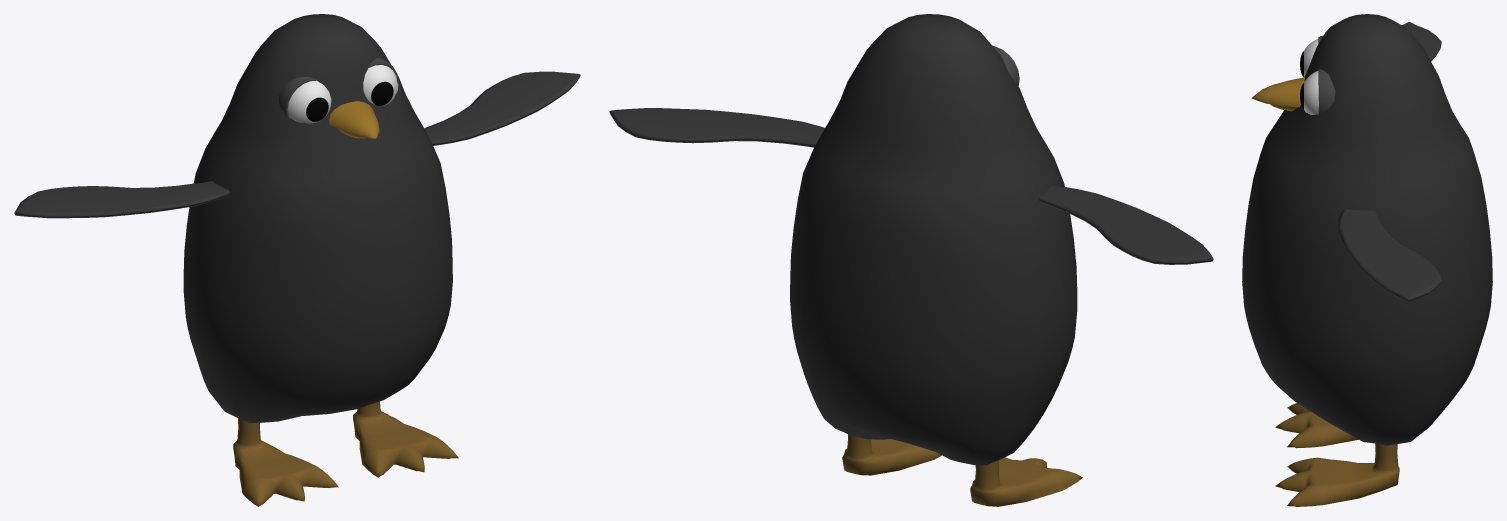
Rendered from AA_Pluck_Final_LS.fbx.
The picture shows the model from 3 angles, left to right: view 1: azimuth 30°, elevation 25°; view 2: azimuth 150°, elevation 25°; view 3: azimuth 270°, elevation 25°; orthographic projection. The views are drawn at different scales.
Visible parts, largest first — view 1: Body, Wing_R, Wing_L, Foot_R, Foot_L, Beak_Upper, Eyeball_R, Eyeball_L; view 2: Body, Wing_R, Wing_L, Foot_R, Foot_L; view 3: Body, Wing_L, Foot_L, Foot_R, Beak_Upper, Wing_R, Eyeball_L, EyeLid_L.
Boxes of the visible parts, x1,y1,x2,y2 form: Body: [183, 14, 452, 422]; Wing_R: [14, 181, 229, 218]; Wing_L: [424, 71, 580, 145]; Foot_R: [233, 418, 338, 506]; Foot_L: [353, 401, 458, 477]; Beak_Upper: [329, 101, 379, 138]; Eyeball_R: [287, 80, 331, 123]; Eyeball_L: [363, 65, 397, 105]; Body: [790, 14, 1077, 465]; Wing_R: [1039, 185, 1213, 264]; Wing_L: [609, 108, 824, 147]; Foot_R: [970, 457, 1082, 506]; Foot_L: [842, 434, 941, 475]; Body: [1242, 14, 1492, 445]; Wing_L: [1337, 209, 1441, 302]; Foot_L: [1275, 443, 1399, 506]; Foot_R: [1275, 403, 1358, 448]; Beak_Upper: [1251, 77, 1304, 107]; Wing_R: [1402, 22, 1441, 61]; Eyeball_L: [1304, 71, 1318, 114]; EyeLid_L: [1318, 69, 1335, 115].
Bounding box in the file's own units: 263 × 192 × 100.
